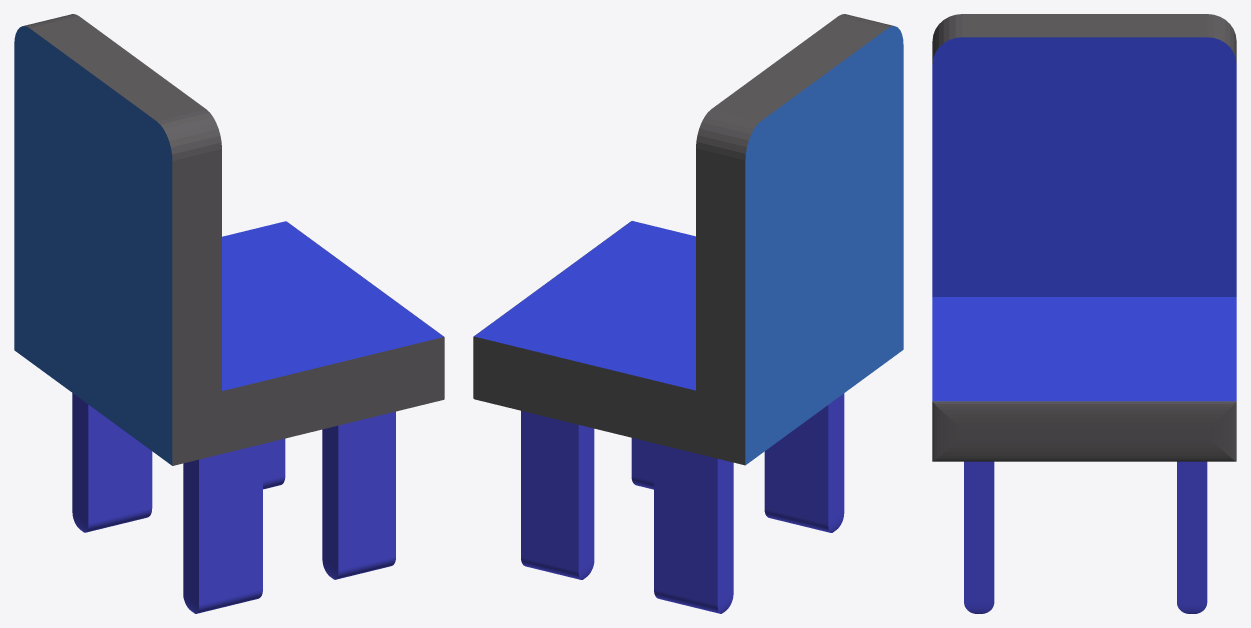
Rendered from Silla.fbx.
3 renders of one model, left to right at view 1: azimuth 30°, elevation 25°; view 2: azimuth 150°, elevation 25°; view 3: azimuth 270°, elevation 25°, orthographic. The views are drawn at different scales.
Parts seen in each view (by area): view 1: Cube; view 2: Cube; view 3: Cube.
Boxes of the visible parts, <box> form: Cube: <box>14,14,444,613</box>; Cube: <box>473,14,903,613</box>; Cube: <box>932,14,1236,613</box>.
Bounding box in the file's own units: 173 × 305 × 172.
